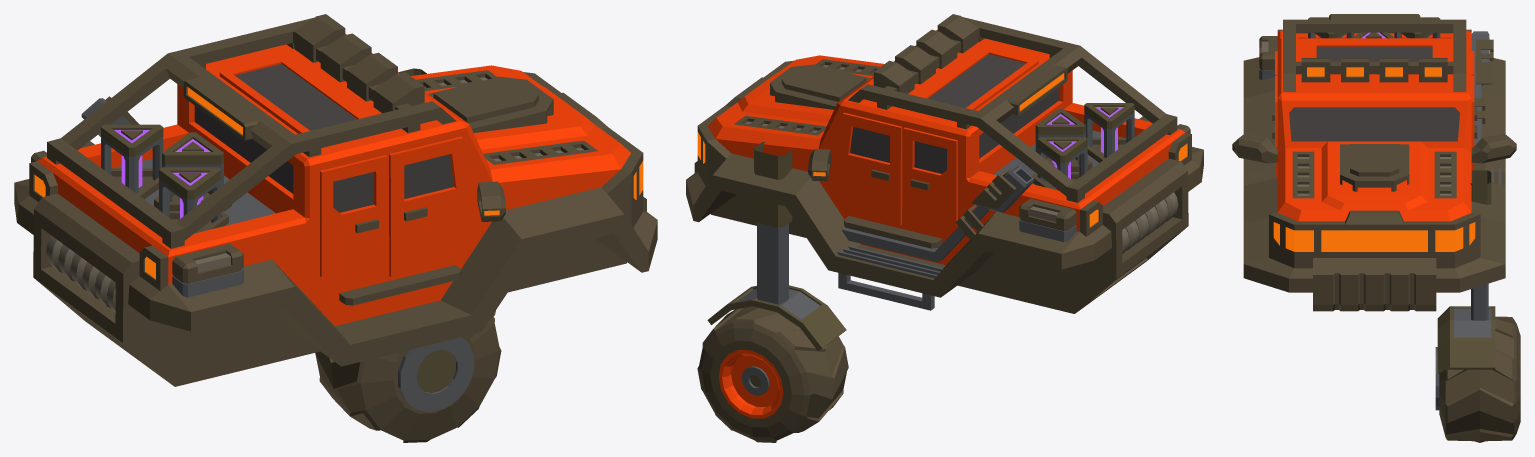
Rendered from folio-vehicle-U93VGgap.glb.
The picture shows the model from 3 angles, left to right: view 1: azimuth 30°, elevation 25°; view 2: azimuth 150°, elevation 25°; view 3: azimuth 270°, elevation 25°; orthographic projection. The views are drawn at different scales.
Parts seen in each view (by area): view 1: common, bodyPainted.001, wheel.006, wheelGuard.001, energy.001, cellsCage.003, cellsCage.005, cellsCage.004; view 2: common, bodyPainted.001, wheel.006, wheelSuspension.002, wheelGuard.001, wheelPainted, energy.001, cellsCage.005, cellsCage.003, cellsCage.004; view 3: common, bodyPainted.001, wheel.006, headlights.001, wheelGuard.001, wheelSuspension.002, energy.001, cellsCage.003, cellsCage.005.
Boxes of the visible parts, box(x1,y1,x2,y2) form: common: box(14, 14, 657, 386); bodyPainted.001: box(37, 33, 630, 325); wheel.006: box(315, 317, 501, 442); wheelGuard.001: box(397, 310, 495, 411); energy.001: box(46, 77, 583, 312); cellsCage.003: box(101, 124, 163, 193); cellsCage.005: box(159, 167, 221, 233); cellsCage.004: box(162, 132, 223, 201); common: box(686, 14, 1203, 313); bodyPainted.001: box(707, 30, 1184, 264); wheel.006: box(697, 306, 848, 442); wheelSuspension.002: box(754, 142, 792, 304); wheelGuard.001: box(707, 285, 846, 350); wheelPainted: box(718, 350, 783, 418); energy.001: box(745, 65, 1178, 253); cellsCage.005: box(1084, 103, 1134, 157); cellsCage.003: box(1037, 137, 1087, 190); cellsCage.004: box(1035, 108, 1085, 164); common: box(1232, 14, 1516, 311); bodyPainted.001: box(1275, 30, 1474, 221); wheel.006: box(1439, 316, 1520, 442); headlights.001: box(1285, 67, 1463, 251); wheelGuard.001: box(1435, 306, 1495, 410); wheelSuspension.002: box(1470, 170, 1491, 320); energy.001: box(1261, 41, 1451, 195); cellsCage.003: box(1394, 17, 1440, 38); cellsCage.005: box(1308, 17, 1354, 38).
Size of the model in its own units: 2.99 by 2.48 by 1.91.
Materials: 5 (1 with a texture image).
